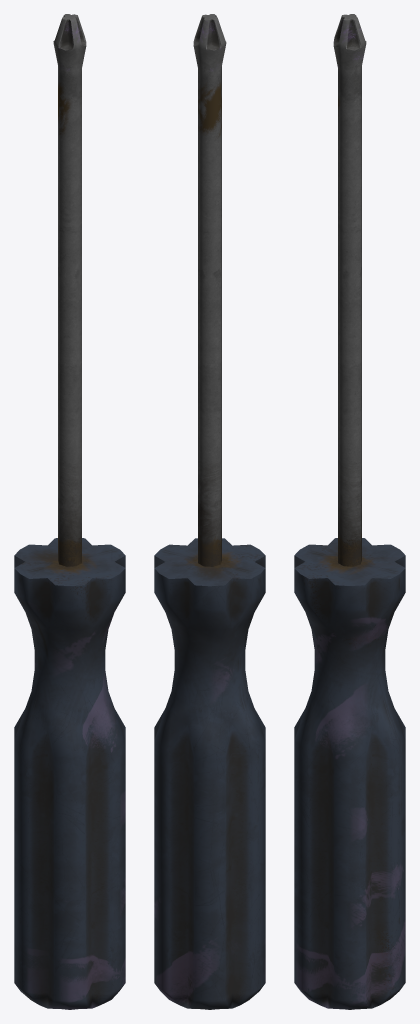
File: screwdriver.glb
The picture shows the model from 3 angles, left to right: view 1: azimuth 30°, elevation 25°; view 2: azimuth 150°, elevation 25°; view 3: azimuth 330°, elevation 25°; orthographic projection.
Parts seen in each view (by area): view 1: Ruchka._low_0, Metal_low_1; view 2: Ruchka._low_0, Metal_low_1; view 3: Ruchka._low_0, Metal_low_1.
Part boxes in pixels (box(x1,y1,x2,y2)): Ruchka._low_0: box(14, 538, 125, 1009); Metal_low_1: box(53, 14, 86, 566); Ruchka._low_0: box(154, 538, 265, 1009); Metal_low_1: box(193, 14, 226, 566); Ruchka._low_0: box(294, 538, 405, 1009); Metal_low_1: box(333, 14, 366, 566).
Size of the model in its own units: 0.0569 by 0.5321 by 0.0549.
Materials: 1 (1 with a texture image).
